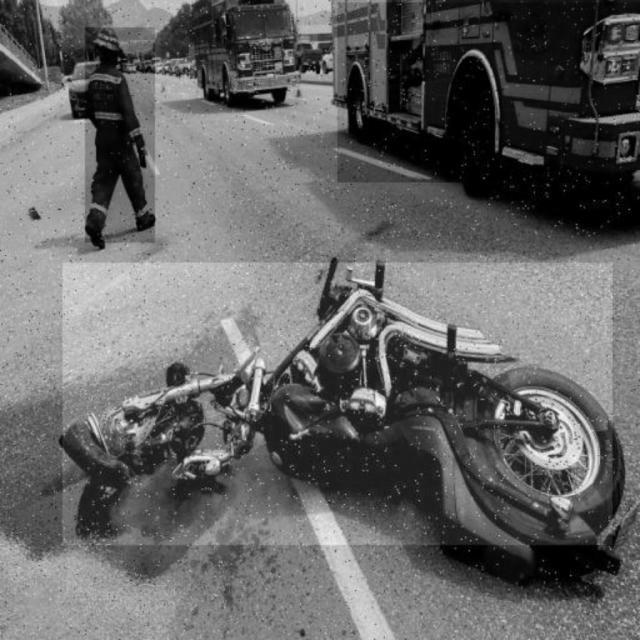accident: (63, 263, 613, 545)
person: (85, 27, 155, 243)
vehicle: (338, 2, 640, 182), (195, 1, 303, 103)
